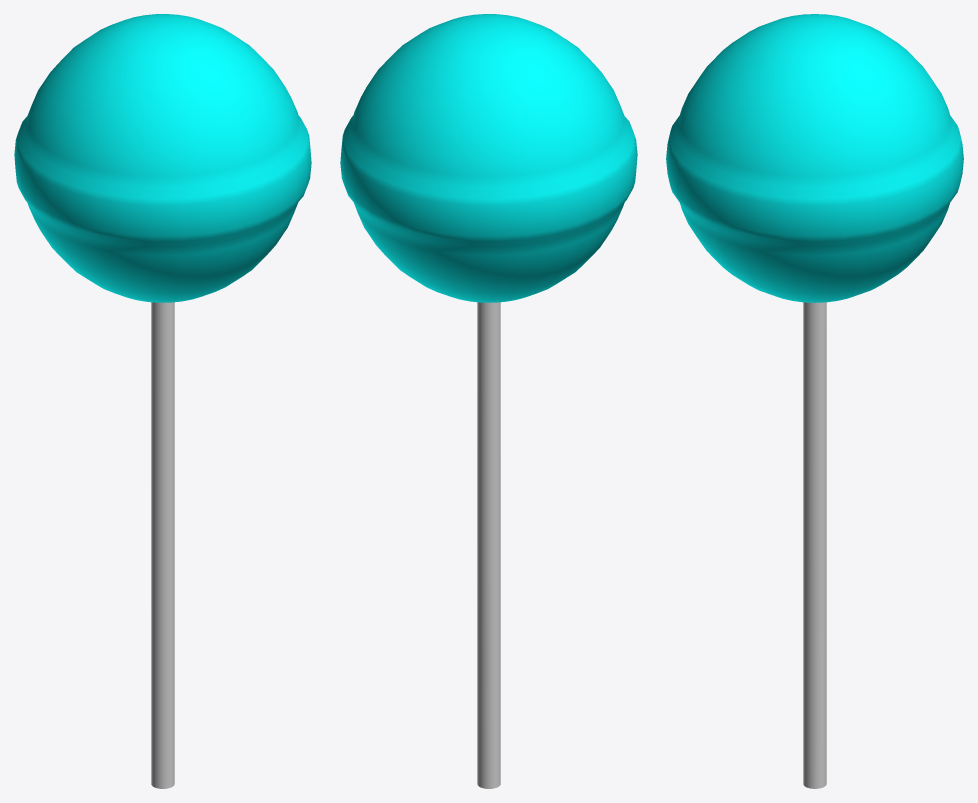
File: Lolipop_blue.fbx
3 renders of one model, left to right at view 1: azimuth 30°, elevation 25°; view 2: azimuth 150°, elevation 25°; view 3: azimuth 270°, elevation 25°, orthographic.
Parts seen in each view (by area): view 1: Head, Stick; view 2: Head, Stick; view 3: Head, Stick.
Boxes of the visible parts, <box> form: Head: <box>14,14,311,302</box>; Stick: <box>151,302,174,788</box>; Head: <box>340,14,637,302</box>; Stick: <box>477,302,500,788</box>; Head: <box>666,14,963,302</box>; Stick: <box>803,302,826,788</box>.
Size of the model in its own units: 3.01 by 8.45 by 3.01.
